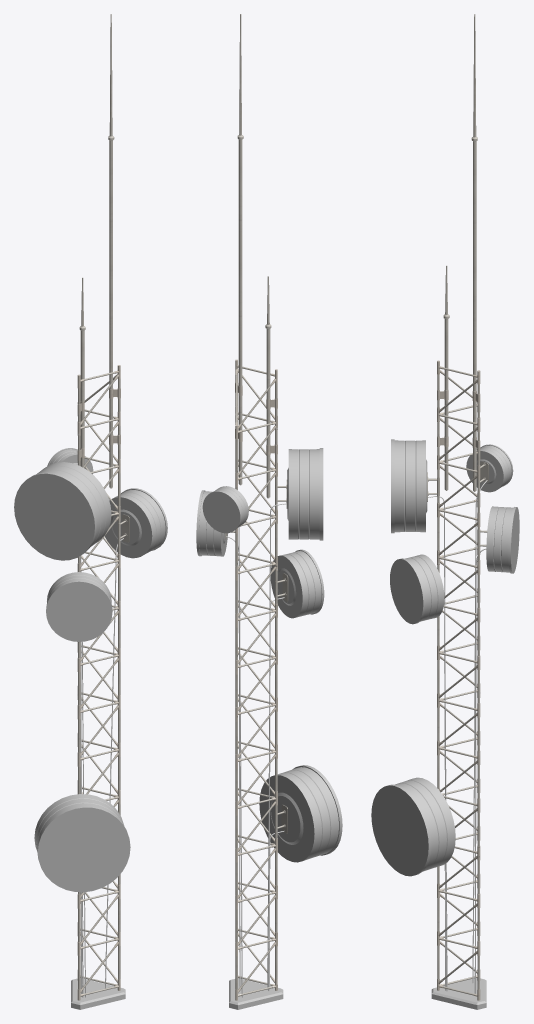
Rendered from KB3D_CBP_Antenna_T.fbx.
The picture shows the model from 3 angles, left to right: view 1: azimuth 30°, elevation 25°; view 2: azimuth 150°, elevation 25°; view 3: azimuth 330°, elevation 25°; orthographic projection.
Visible parts, largest first — view 1: KB3D_CBP_Antenna_T_Main; view 2: KB3D_CBP_Antenna_T_Main; view 3: KB3D_CBP_Antenna_T_Main.
Part boxes in pixels (bbox=[...]): KB3D_CBP_Antenna_T_Main: bbox=[14, 14, 167, 1009]; KB3D_CBP_Antenna_T_Main: bbox=[196, 14, 342, 1009]; KB3D_CBP_Antenna_T_Main: bbox=[371, 14, 519, 1009].
Bounding box in the file's own units: 443 × 3047 × 372.
